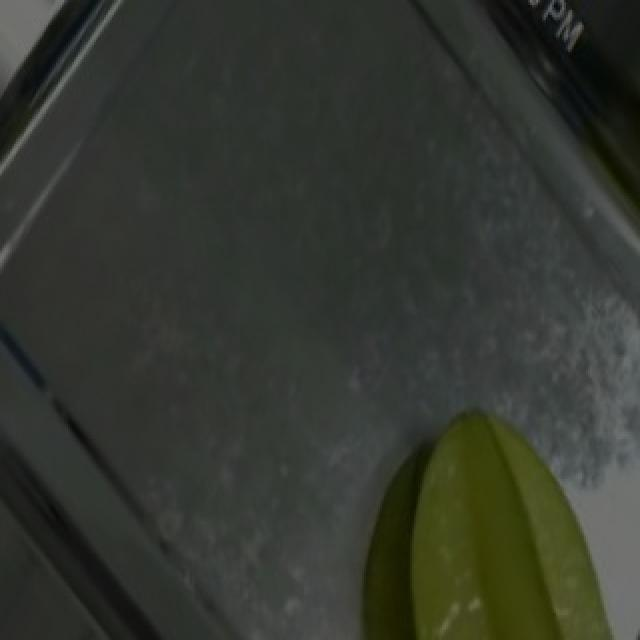fruit: (374, 389, 640, 640)
